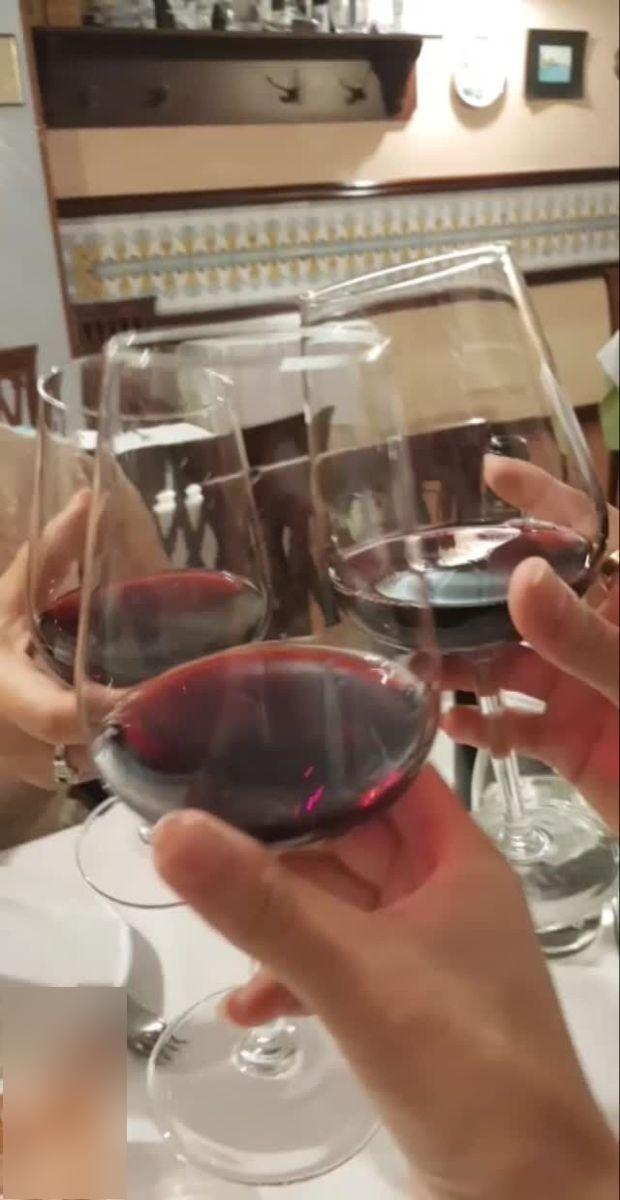glass-wine: (43, 303, 542, 1196), (293, 239, 617, 933)
